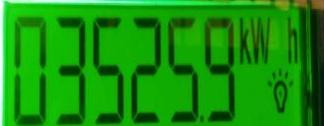.: (237, 16, 299, 64)
0: (198, 115, 205, 122)
1: (9, 15, 51, 125)
3: (130, 16, 163, 126)
4: (53, 15, 87, 126)
6: (89, 16, 128, 124), (166, 16, 200, 123)
:: (202, 16, 238, 123)
